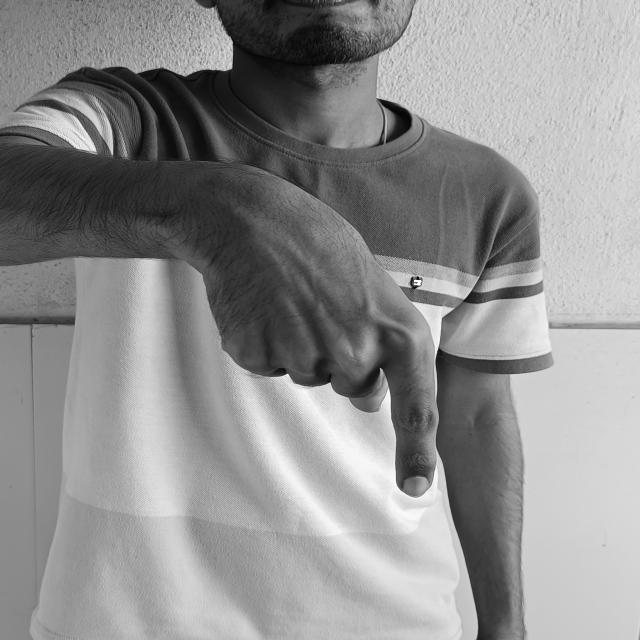Now: (103, 156, 494, 515)
